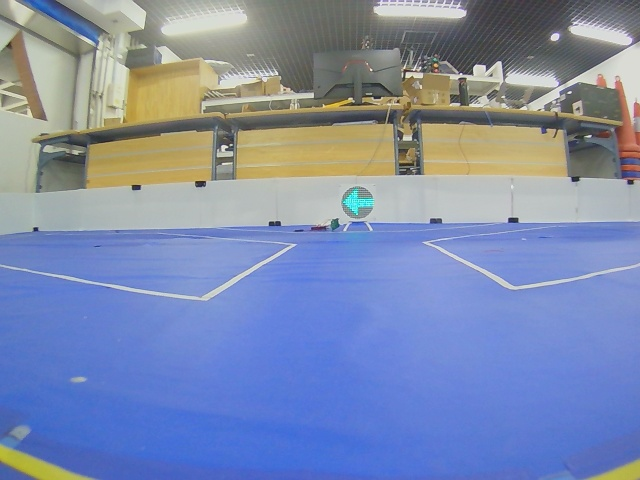left_green: (342, 187, 374, 219)
